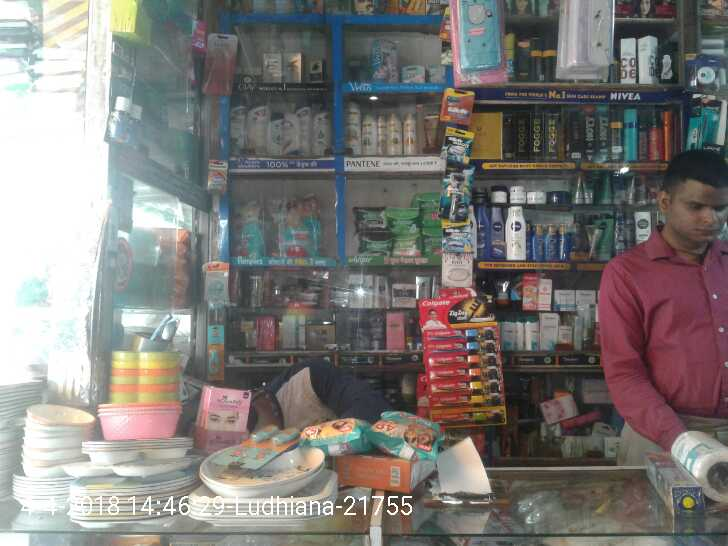venus: (373, 39, 398, 81), (403, 65, 426, 83), (426, 64, 442, 84)
